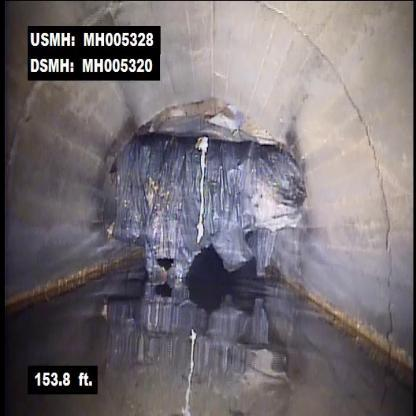utits: (75, 108, 320, 262)
